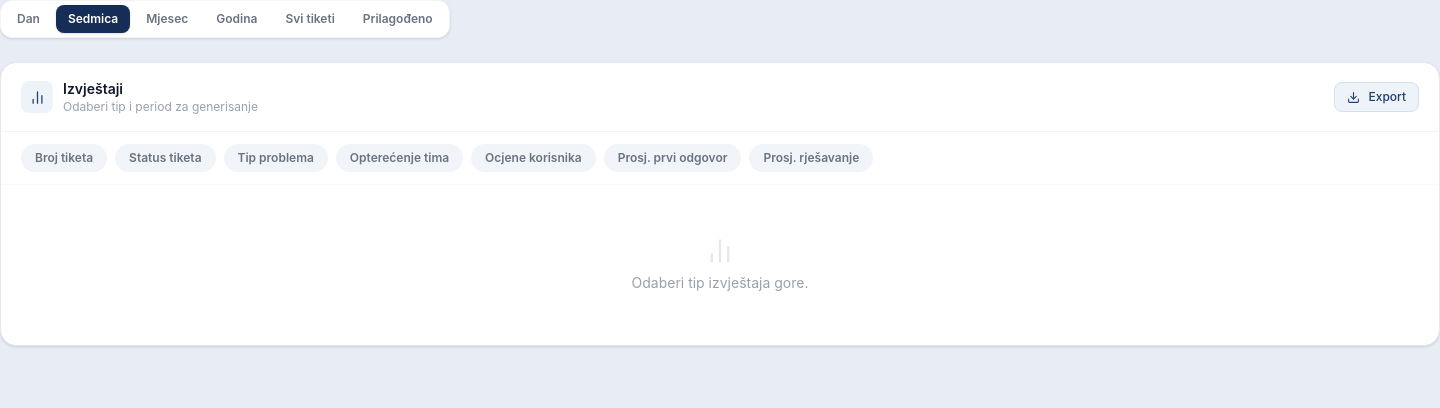
US-88 — FIRST_RESPONSE izvještaj na /reports › FIRST_RESPONSE bez odgovora prikazuje informativnu poruku
Click the button "Prosj. prvi odgovor" at coordinates (673, 158), box [604,144,742,172]
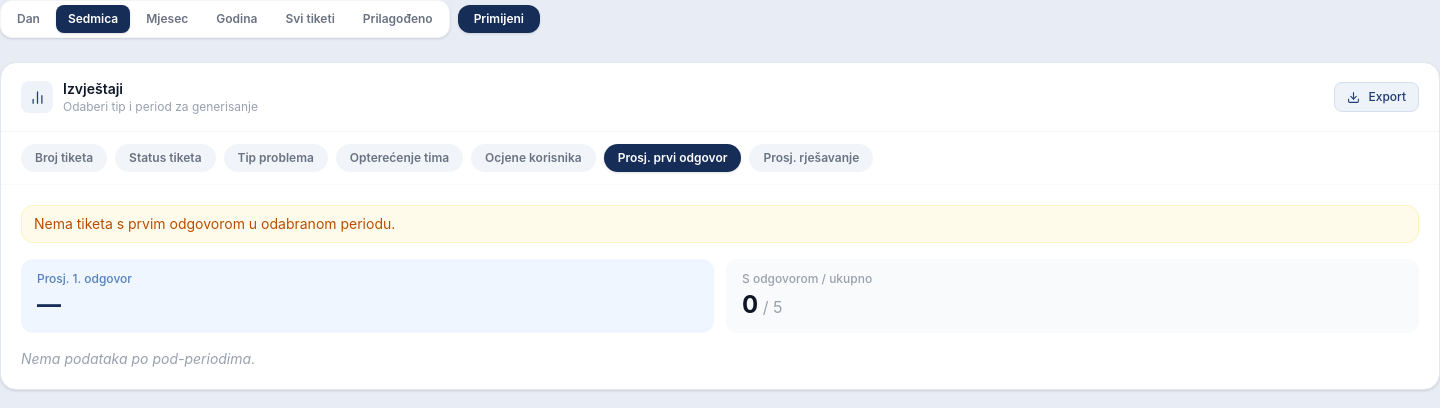
Expected: the text "Nema tiketa s prvim odgovorom u odabranom periodu." is shown, [21,205,1419,243]
Expected: the text "Nema podataka po pod-periodima." is shown, [21,350,255,367]
